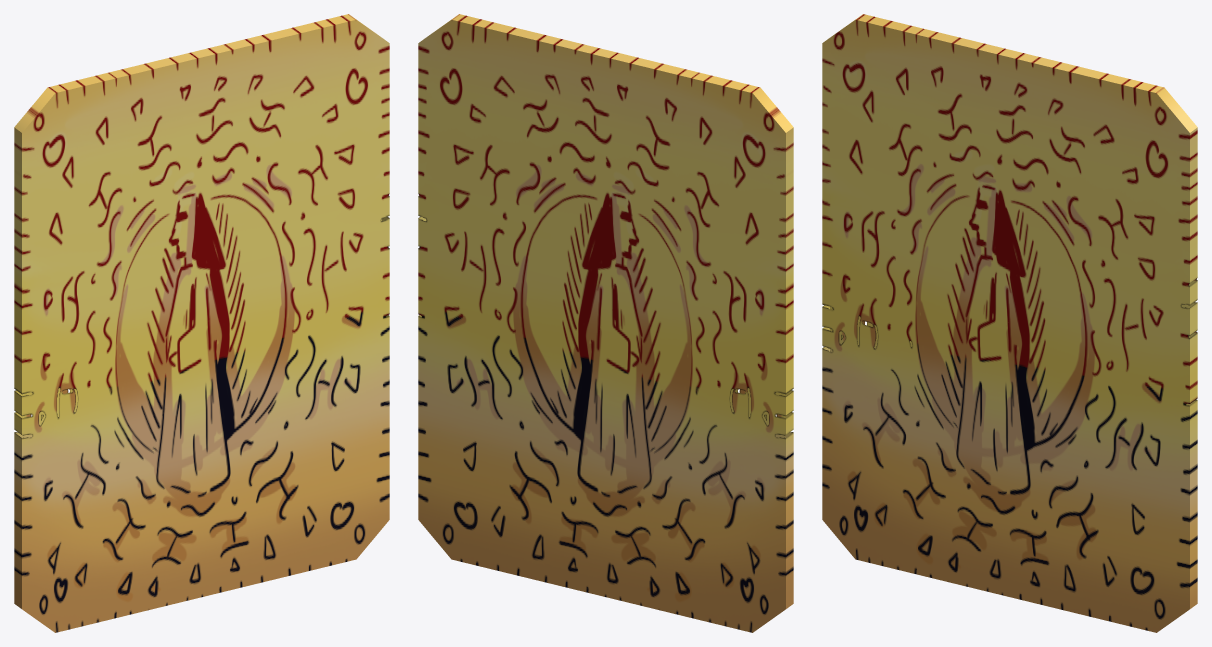
The model's file is agimat 2.fbx.
3 renders of one model, left to right at view 1: azimuth 30°, elevation 25°; view 2: azimuth 150°, elevation 25°; view 3: azimuth 330°, elevation 25°, orthographic.
Visible parts, largest first — view 1: agimat; view 2: agimat; view 3: agimat.
Boxes of the visible parts, x1,y1,x2,y2 form: agimat: [14, 14, 389, 632]; agimat: [418, 14, 793, 632]; agimat: [822, 14, 1197, 632].
Bounding box in the file's own units: 0.6999 × 0.9817 × 0.0258.
